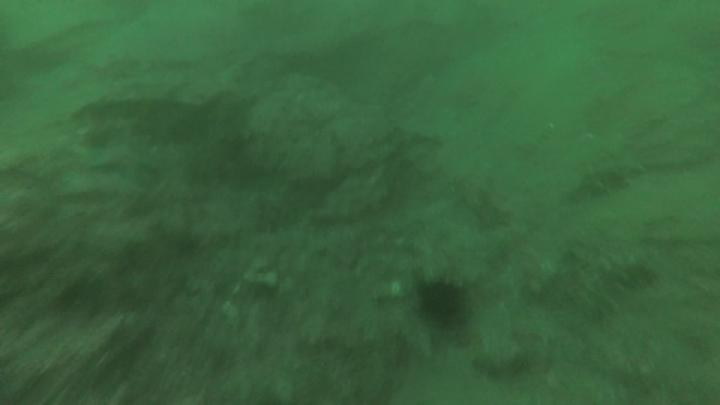echinus: (420, 283, 461, 326)
holothurian: (571, 250, 648, 312), (570, 156, 644, 197)
